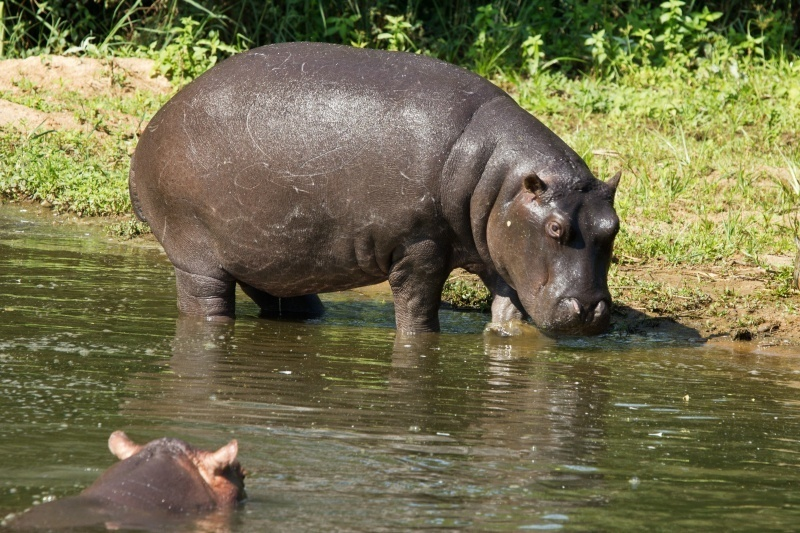hipopotamo: (117, 32, 647, 370), (6, 424, 250, 533)
